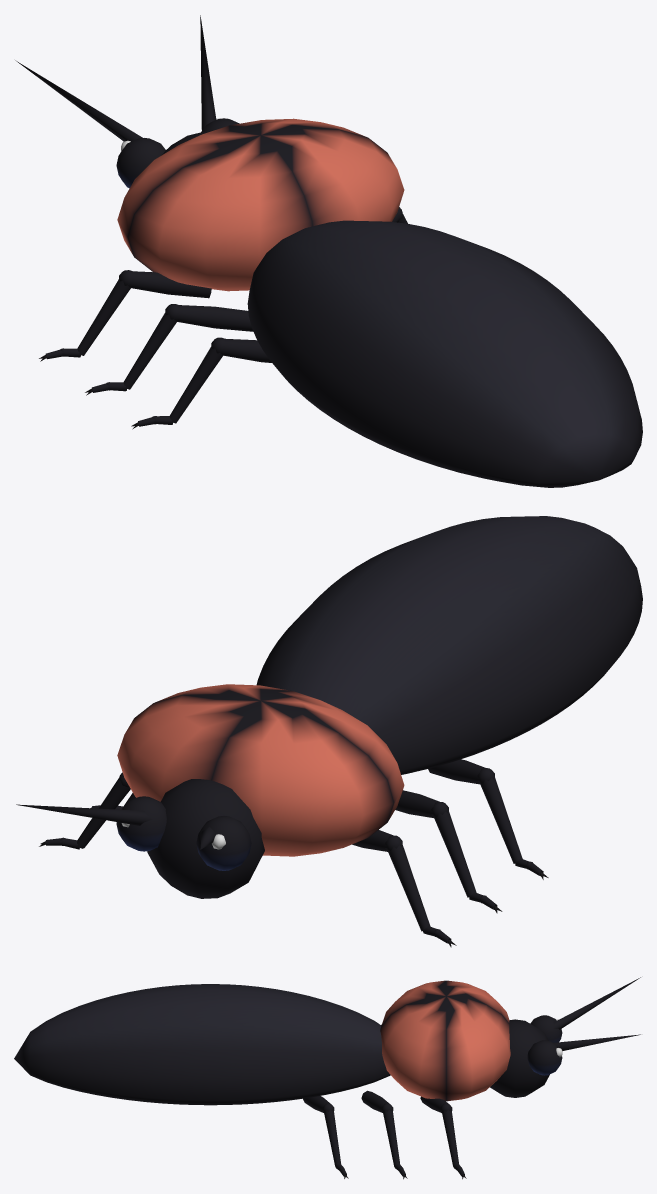
Rendered from Firefly_Body.fbx.
3 views of the same model, one above another, from view 1: azimuth 30°, elevation 25°; view 2: azimuth 150°, elevation 25°; view 3: azimuth 270°, elevation 25° (orthographic). The views are drawn at different scales.
Parts seen in each view (by area): view 1: Firefly_Body; view 2: Firefly_Body; view 3: Firefly_Body.
Boxes of the visible parts, x1,y1,x2,y2 form: Firefly_Body: (15, 15, 642, 487); Firefly_Body: (16, 516, 642, 947); Firefly_Body: (14, 977, 640, 1179).
Size of the model in its own units: 0.3133 by 0.1332 by 0.64.
